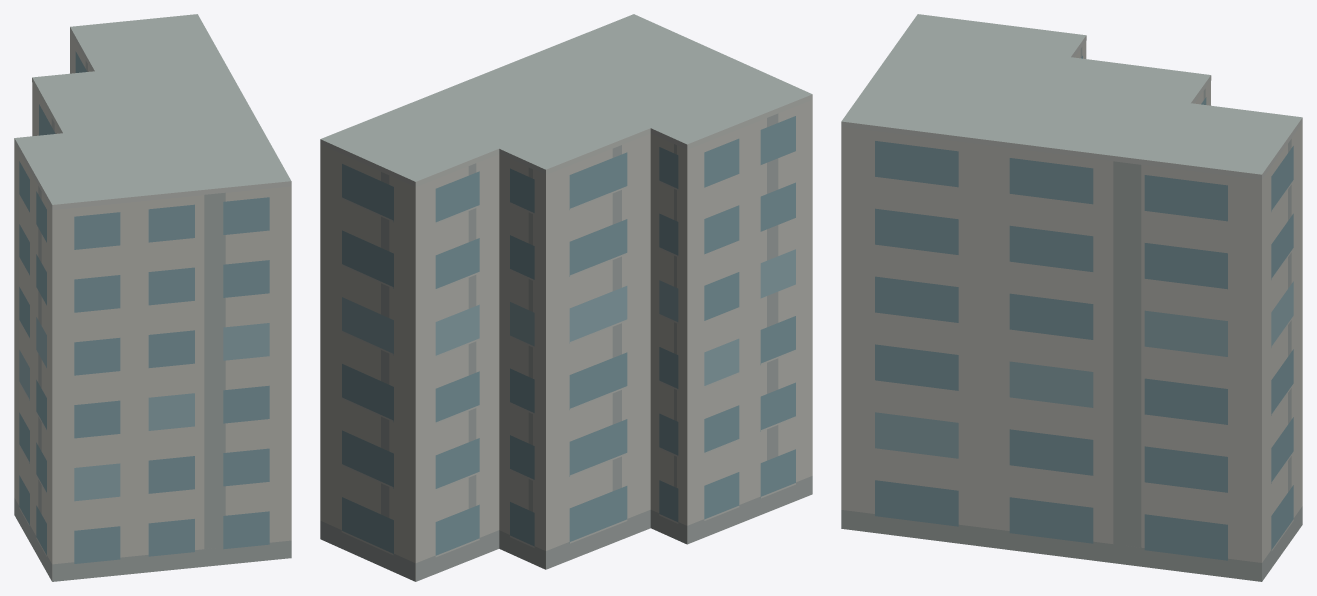
File: survey-upis-32612053.glb
3 renders of one model, left to right at view 1: azimuth 30°, elevation 25°; view 2: azimuth 150°, elevation 25°; view 3: azimuth 270°, elevation 25°, orthographic. The views are drawn at different scales.
Visible parts, largest first — view 1: survey-upis-32612053.tmp; view 2: survey-upis-32612053.tmp; view 3: survey-upis-32612053.tmp.
Part boxes in pixels (left/top/right/bottom): survey-upis-32612053.tmp: left=14, top=14, right=291, bottom=581; survey-upis-32612053.tmp: left=320, top=14, right=812, bottom=581; survey-upis-32612053.tmp: left=841, top=14, right=1302, bottom=581.
Size of the model in its own units: 15.49 by 18.3 by 18.8.
